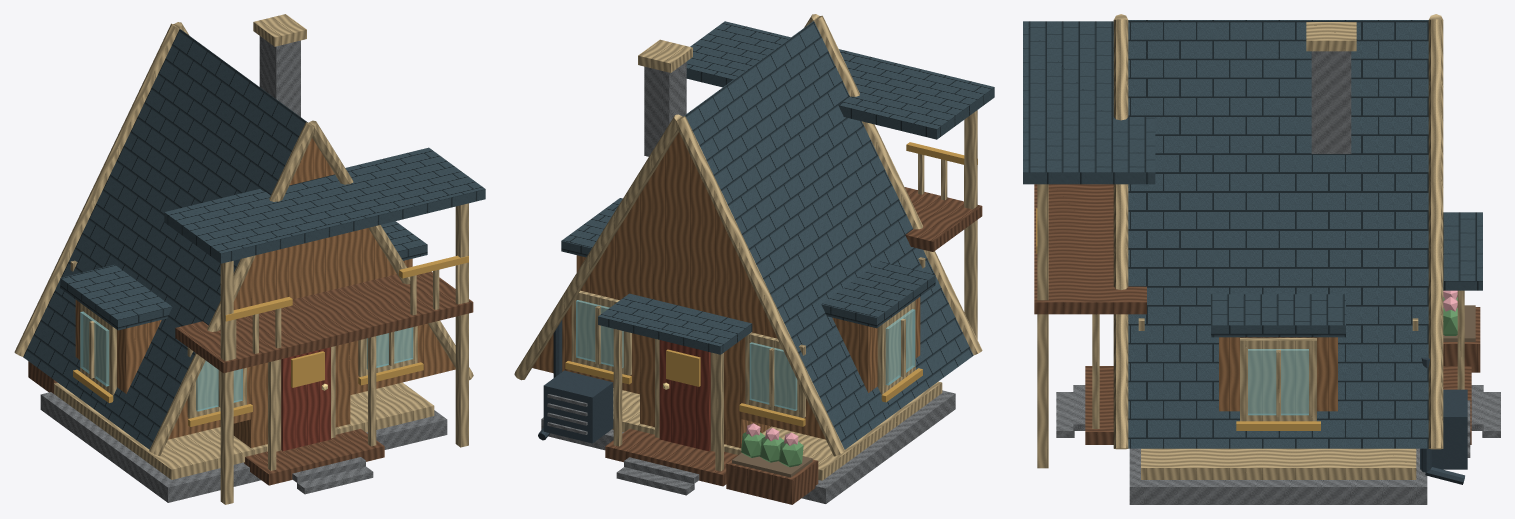
The model's file is house_aframe_lv2_balcony.glb.
3 renders of one model, left to right at view 1: azimuth 30°, elevation 25°; view 2: azimuth 150°, elevation 25°; view 3: azimuth 270°, elevation 25°, orthographic. The views are drawn at different scales.
Parts seen in each view (by area): view 1: steep_roof, balcony_roof, a_frame_gables, balcony_floor, floor_trim, foundation, left_dormer_cap, a_frame_edge.001, walls, front_door, front_deck, a_frame_edge (+22 smaller); view 2: steep_roof, a_frame_gables, balcony_roof, back_porch_canopy, a_frame_edge.001, walls, left_dormer_cap, foundation, back_door, a_frame_edge.003, back_ac_unit, floor_trim (+26 smaller); view 3: steep_roof.001, balcony_roof, balcony_floor, floor_trim, foundation, a_frame_edge.003, right_window_frame, right_dormer_cap, a_frame_edge.002, chimney, right_window_glass, balcony_pillar.001 (+15 smaller).
Part boxes in pixels (left/top/right/bottom): steep_roof: left=23, top=29, right=307, bottom=449; balcony_roof: left=164, top=147, right=485, bottom=263; a_frame_gables: left=168, top=138, right=455, bottom=439; balcony_floor: left=175, top=271, right=473, bottom=373; floor_trim: left=54, top=382, right=434, bottom=479; foundation: left=40, top=392, right=447, bottom=502; left_dormer_cap: left=60, top=264, right=172, bottom=330; a_frame_edge.001: left=14, top=23, right=179, bottom=356; walls: left=233, top=274, right=350, bottom=447; front_door: left=281, top=347, right=330, bottom=450; front_deck: left=244, top=429, right=384, bottom=485; a_frame_edge: left=149, top=122, right=314, bottom=455; steep_roof: left=683, top=21, right=973, bottom=449; a_frame_gables: left=532, top=132, right=825, bottom=439; balcony_roof: left=686, top=21, right=994, bottom=139; back_porch_canopy: left=598, top=293, right=752, bottom=354; a_frame_edge.001: left=676, top=116, right=844, bottom=456; walls: left=640, top=271, right=770, bottom=447; left_dormer_cap: left=821, top=261, right=935, bottom=328; foundation: left=541, top=390, right=955, bottom=503; back_door: left=659, top=340, right=710, bottom=451; a_frame_edge.003: left=514, top=114, right=682, bottom=380; back_ac_unit: left=543, top=370, right=613, bottom=443; floor_trim: left=612, top=381, right=942, bottom=480; steep_roof.001: left=1128, top=20, right=1428, bottom=448; balcony_roof: left=1023, top=21, right=1155, bottom=184; balcony_floor: left=1034, top=184, right=1146, bottom=314; floor_trim: left=1141, top=448, right=1416, bottom=479; foundation: left=1129, top=448, right=1427, bottom=504; a_frame_edge.003: left=1428, top=19, right=1443, bottom=449; right_window_frame: left=1240, top=338, right=1316, bottom=421; right_dormer_cap: left=1211, top=294, right=1345, bottom=337; a_frame_edge.002: left=1113, top=19, right=1128, bottom=449; chimney: left=1311, top=51, right=1351, bottom=153; right_window_glass: left=1248, top=349, right=1308, bottom=415; balcony_pillar.001: left=1037, top=184, right=1048, bottom=468.
Bounding box in the file's own units: 3.3 × 3.56 × 3.61.
Materials: 13 (7 with a texture image).
